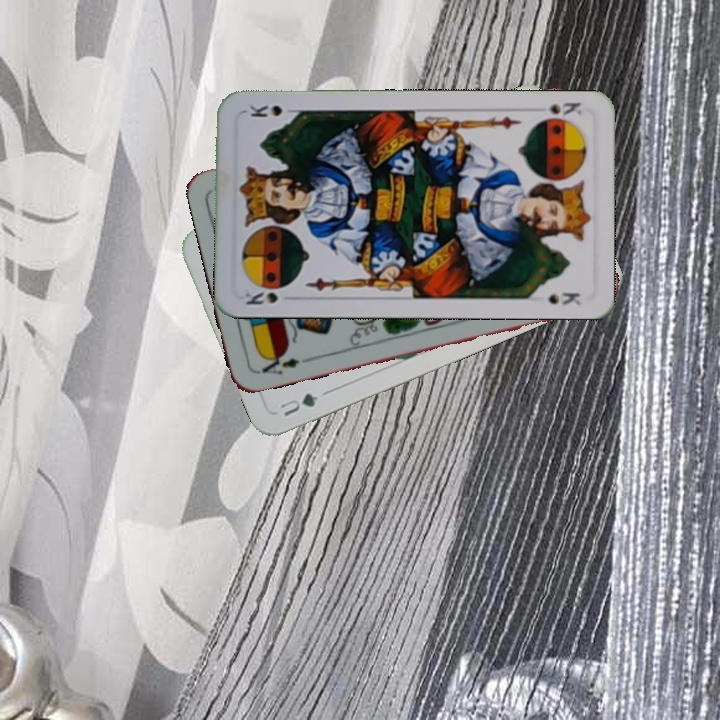EA: (258, 348, 313, 377)
GU: (276, 389, 321, 419)
SK: (533, 98, 584, 125), (241, 287, 281, 307)
